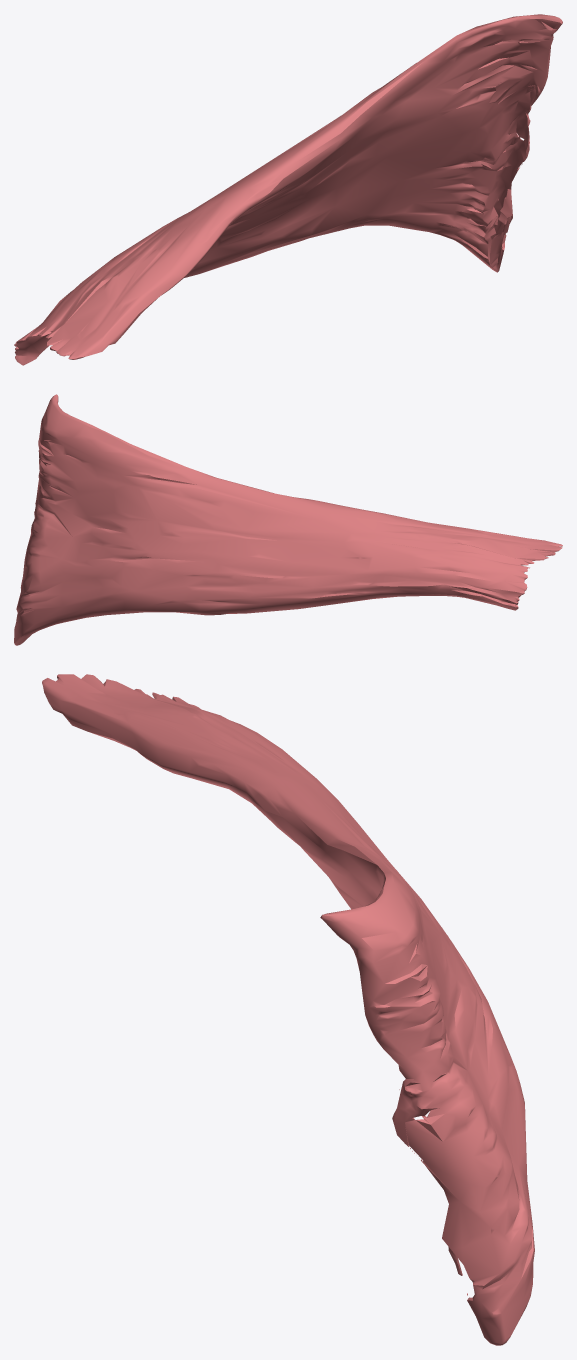
3 renders of one model, top to bottom at view 1: azimuth 30°, elevation 25°; view 2: azimuth 150°, elevation 25°; view 3: azimuth 270°, elevation 25°, orthographic. The views are drawn at different scales.
Parts seen in each view (by area): view 1: FJ1554; view 2: FJ1554; view 3: FJ1554.
Part boxes in pixels (left/top/right/bottom): FJ1554: left=14, top=14, right=562, bottom=365; FJ1554: left=14, top=394, right=562, bottom=645; FJ1554: left=42, top=674, right=534, bottom=1345.
Bounding box in the file's own units: 0.1662 × 0.0781 × 0.0799.
